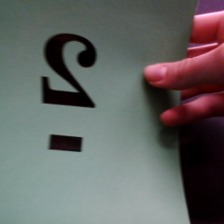green2: (33, 25, 101, 165)
